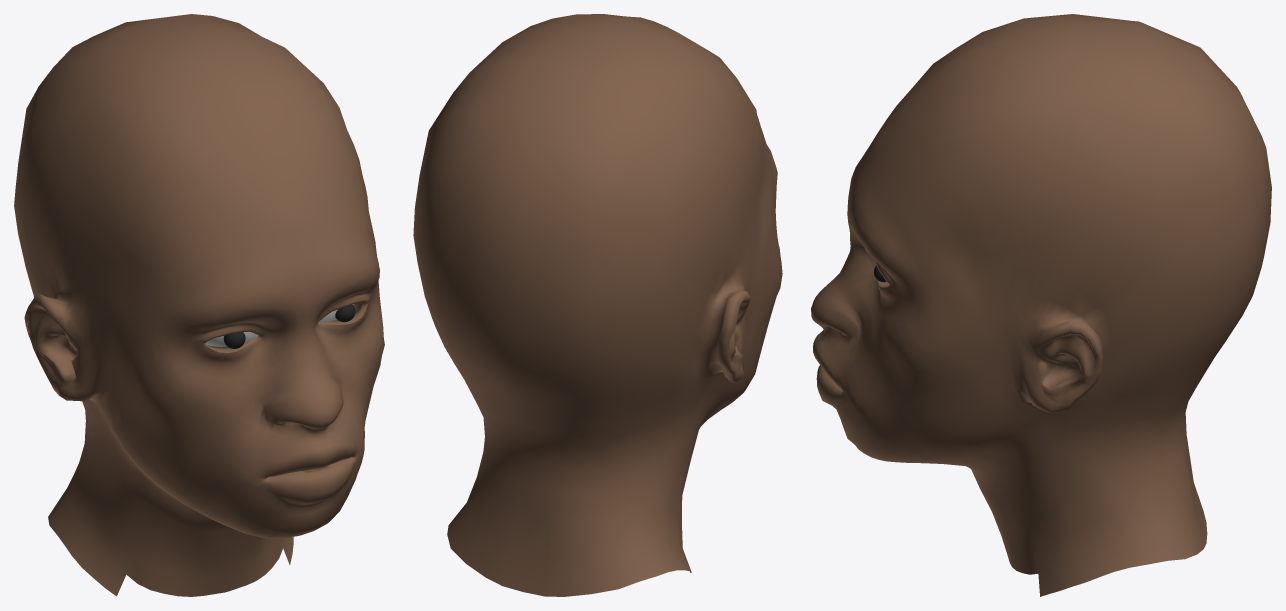
File: Headavatar.fbx
3 renders of one model, left to right at view 1: azimuth 30°, elevation 25°; view 2: azimuth 150°, elevation 25°; view 3: azimuth 270°, elevation 25°, orthographic.
Visible parts, largest first — view 1: Head; view 2: Head; view 3: Head.
Part boxes in pixels (x1,y1,x2,y2): Head: (14,14,384,596); Head: (413,14,782,596); Head: (811,14,1271,596).
Bounding box in the file's own units: 1.52 × 2.49 × 1.97.
